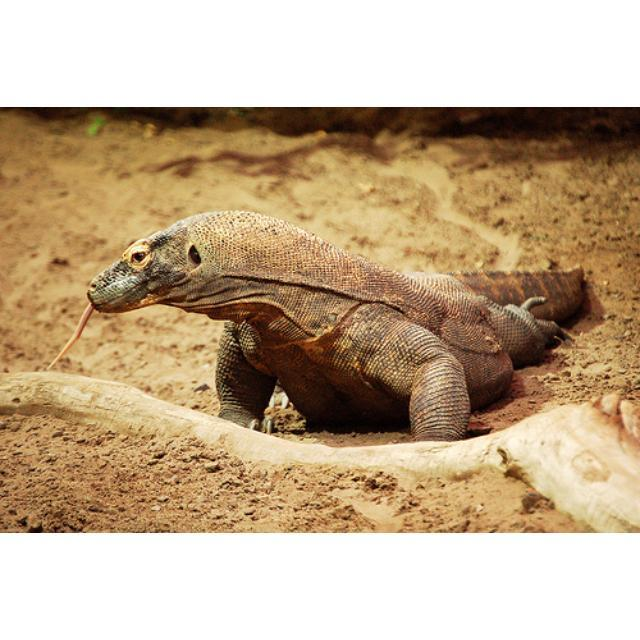KomodoDragon: (37, 206, 584, 441)
